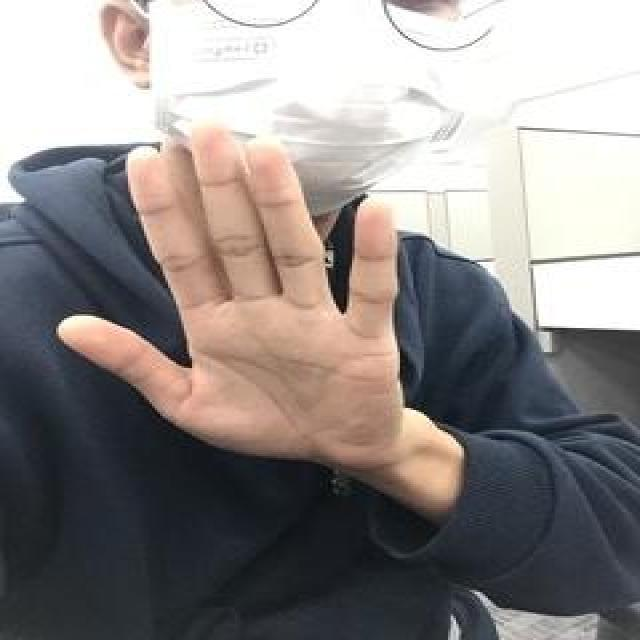no-gloves: (69, 121, 408, 473)
